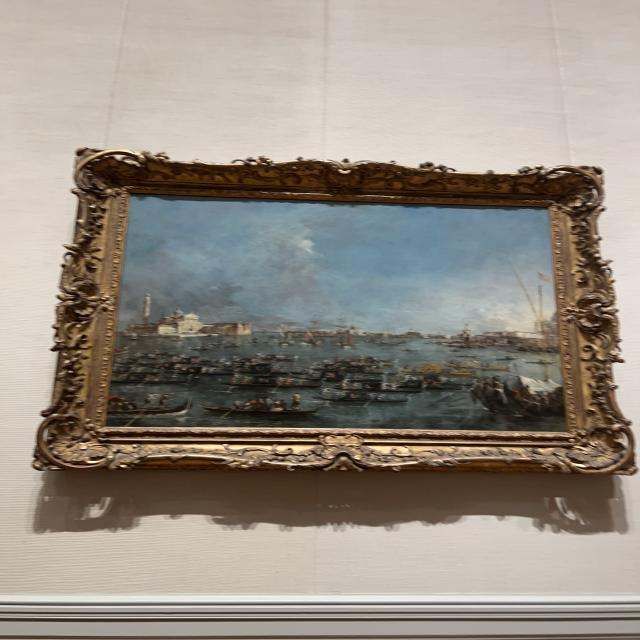ships: (105, 191, 573, 432)
